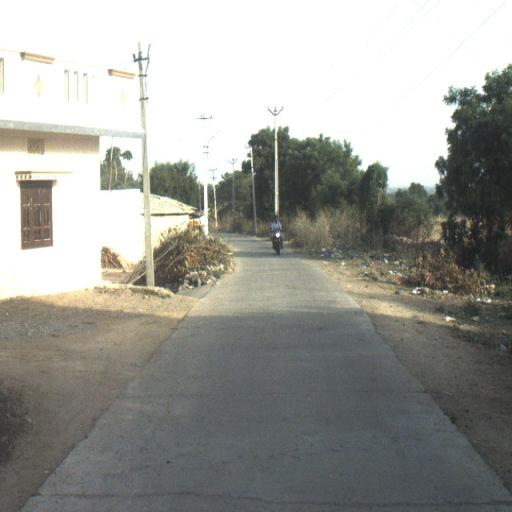street_light_0: (202, 130, 221, 159)
